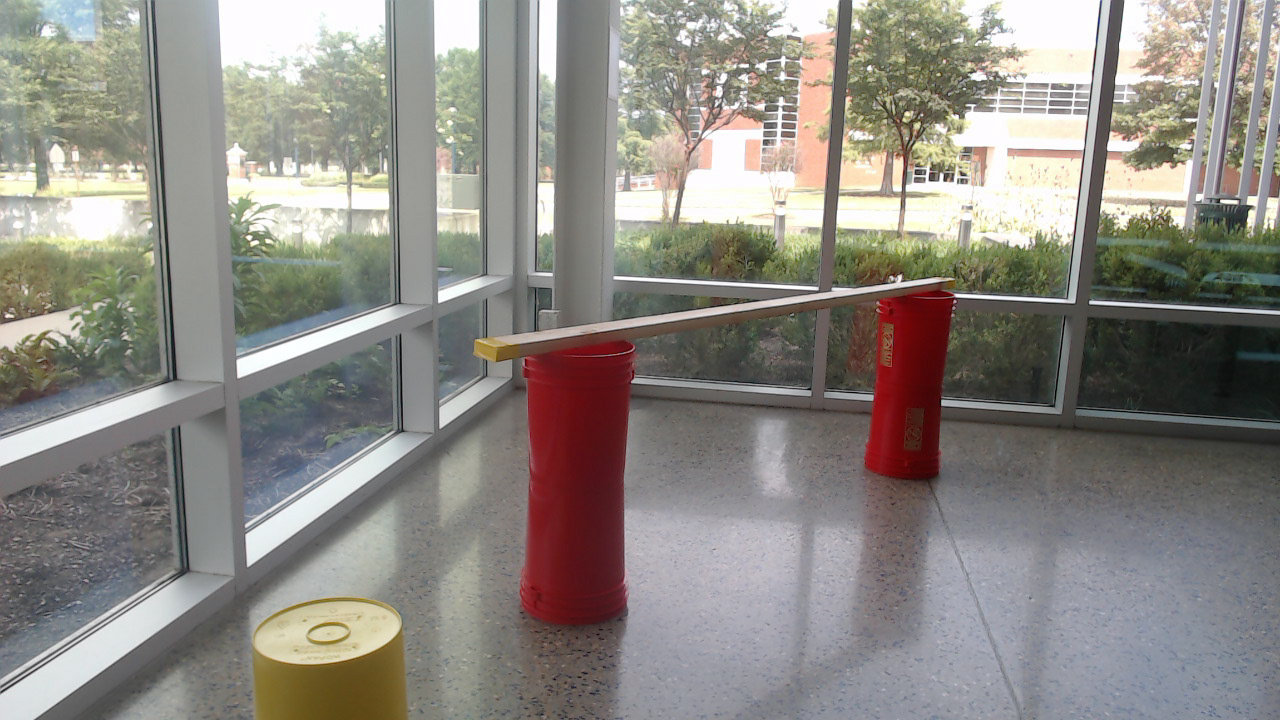red_bucket_arch: (520, 283, 962, 636)
